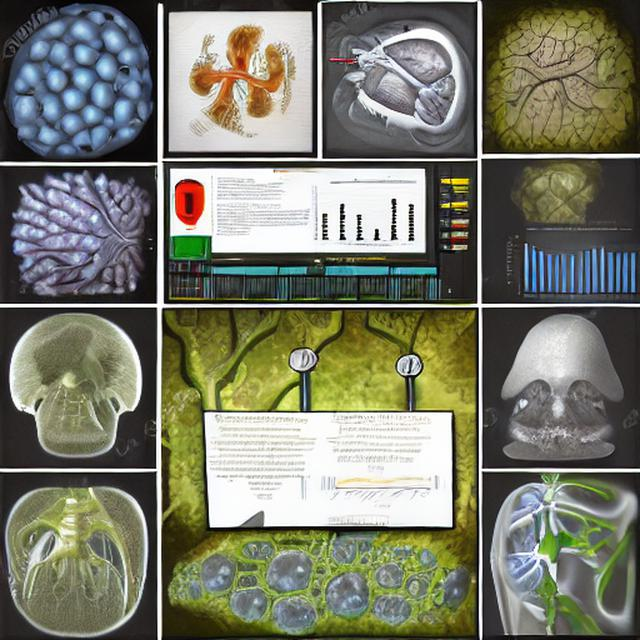Graph: (505, 224, 640, 304), (297, 179, 421, 250), (318, 445, 433, 511)
